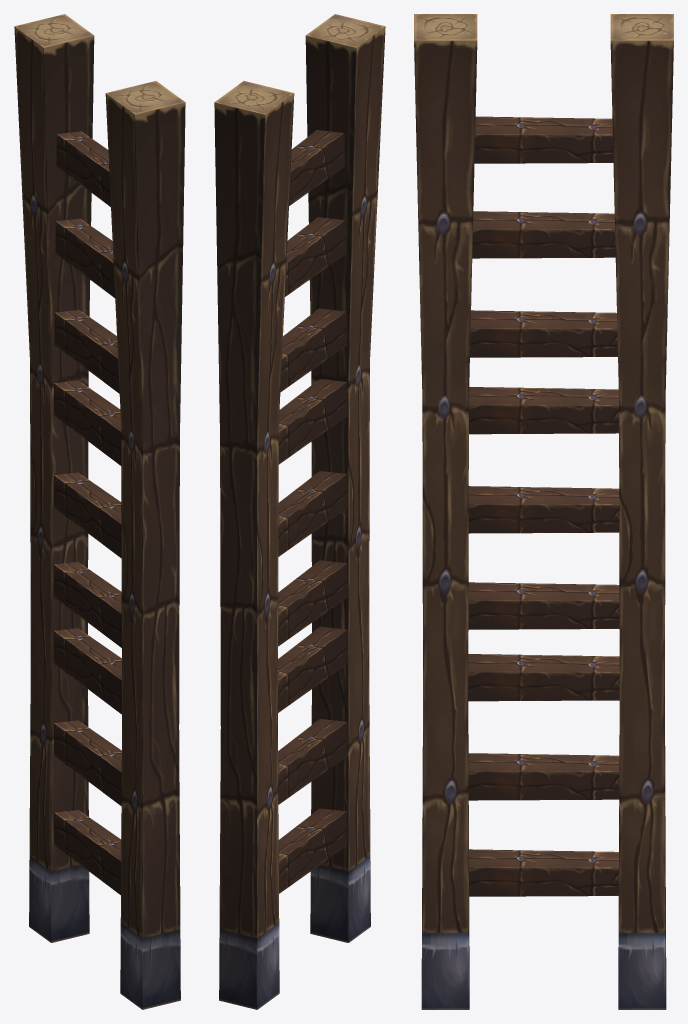
The model's file is stairs_big.fbx.
3 renders of one model, left to right at view 1: azimuth 30°, elevation 25°; view 2: azimuth 150°, elevation 25°; view 3: azimuth 270°, elevation 25°, orthographic. The views are drawn at different scales.
Parts seen in each view (by area): view 1: stairs_big; view 2: stairs_big; view 3: stairs_big.
Part boxes in pixels (x1,y1,x2,y2): stairs_big: [14, 14, 185, 1009]; stairs_big: [214, 14, 385, 1009]; stairs_big: [414, 14, 673, 1009].
Bounding box in the file's own units: 0.5845 × 9.96 × 2.42.
